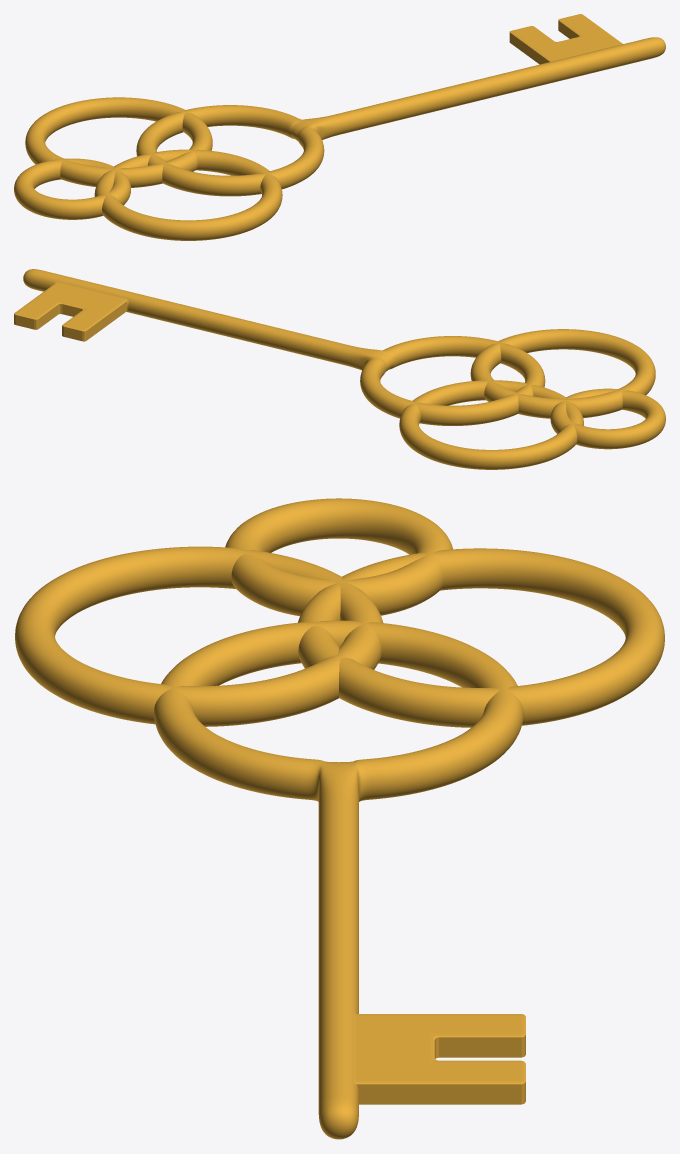
The model's file is key 1.fbx.
3 renders of one model, top to bottom at view 1: azimuth 30°, elevation 25°; view 2: azimuth 150°, elevation 25°; view 3: azimuth 270°, elevation 25°, orthographic. The views are drawn at different scales.
Parts seen in each view (by area): view 1: 円.001, 立方体; view 2: 円.001, 立方体; view 3: 円.001, 立方体.
Part boxes in pixels (left/top/right/bottom): 円.001: left=14, top=19, right=665, bottom=240; 立方体: left=509, top=14, right=622, bottom=63; 円.001: left=15, top=269, right=665, bottom=469; 立方体: left=14, top=283, right=126, bottom=340; 円.001: left=15, top=498, right=664, bottom=1139; 立方体: left=355, top=1014, right=525, bottom=1104.
Size of the model in its own units: 442 by 12.84 by 197.
